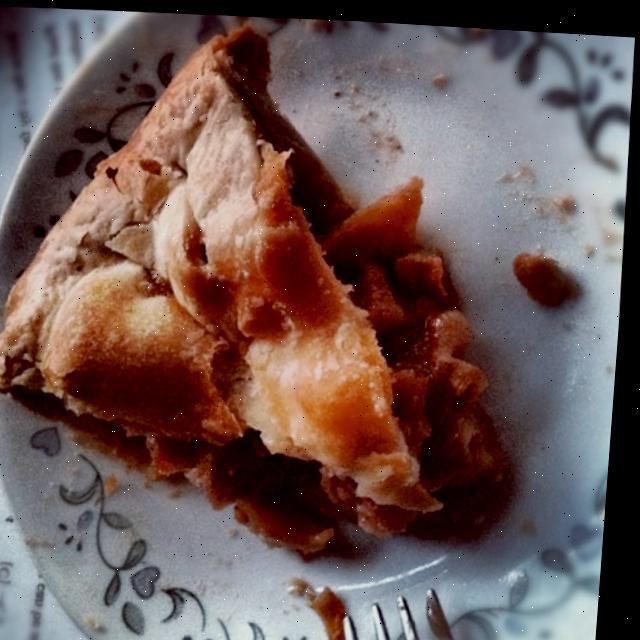炸货点心: (0, 3, 546, 602)
蛋糕甜品: (0, 3, 546, 602)
